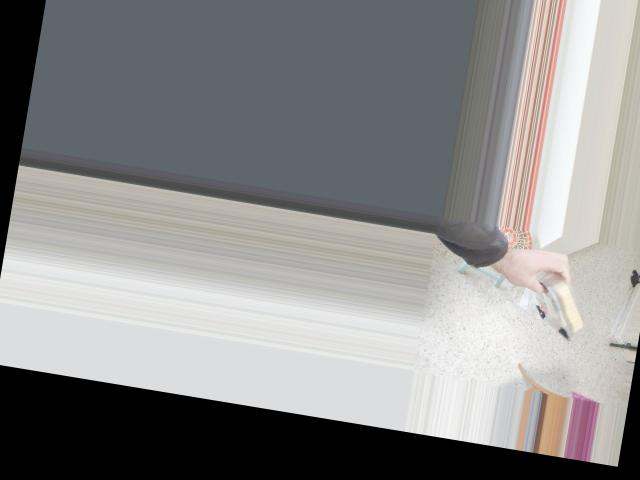cheese: (506, 237, 609, 357)
